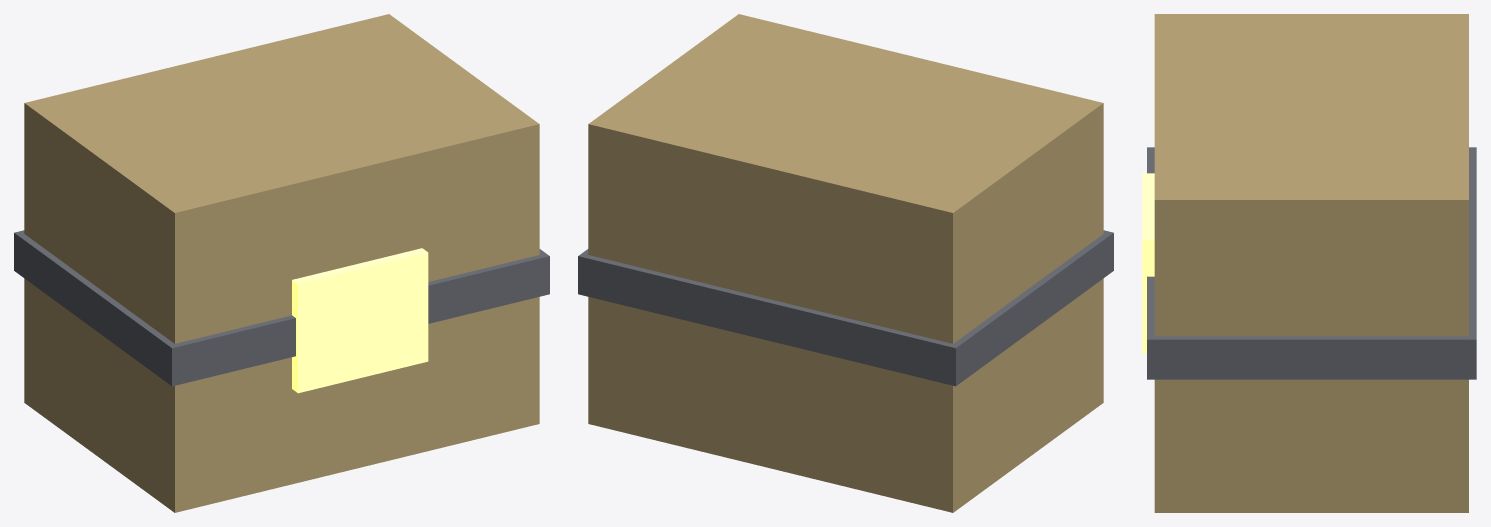
File: crate.glb
3 renders of one model, left to right at view 1: azimuth 30°, elevation 25°; view 2: azimuth 150°, elevation 25°; view 3: azimuth 270°, elevation 25°, orthographic. The views are drawn at different scales.
Parts seen in each view (by area): view 1: crate_m; view 2: crate_m; view 3: crate_m.
Boxes of the visible parts, x1,y1,x2,y2 form: crate_m: [14, 14, 549, 512]; crate_m: [578, 14, 1113, 512]; crate_m: [1142, 14, 1476, 512].
Bounding box in the file's own units: 1.45 × 1.1 × 1.06.
